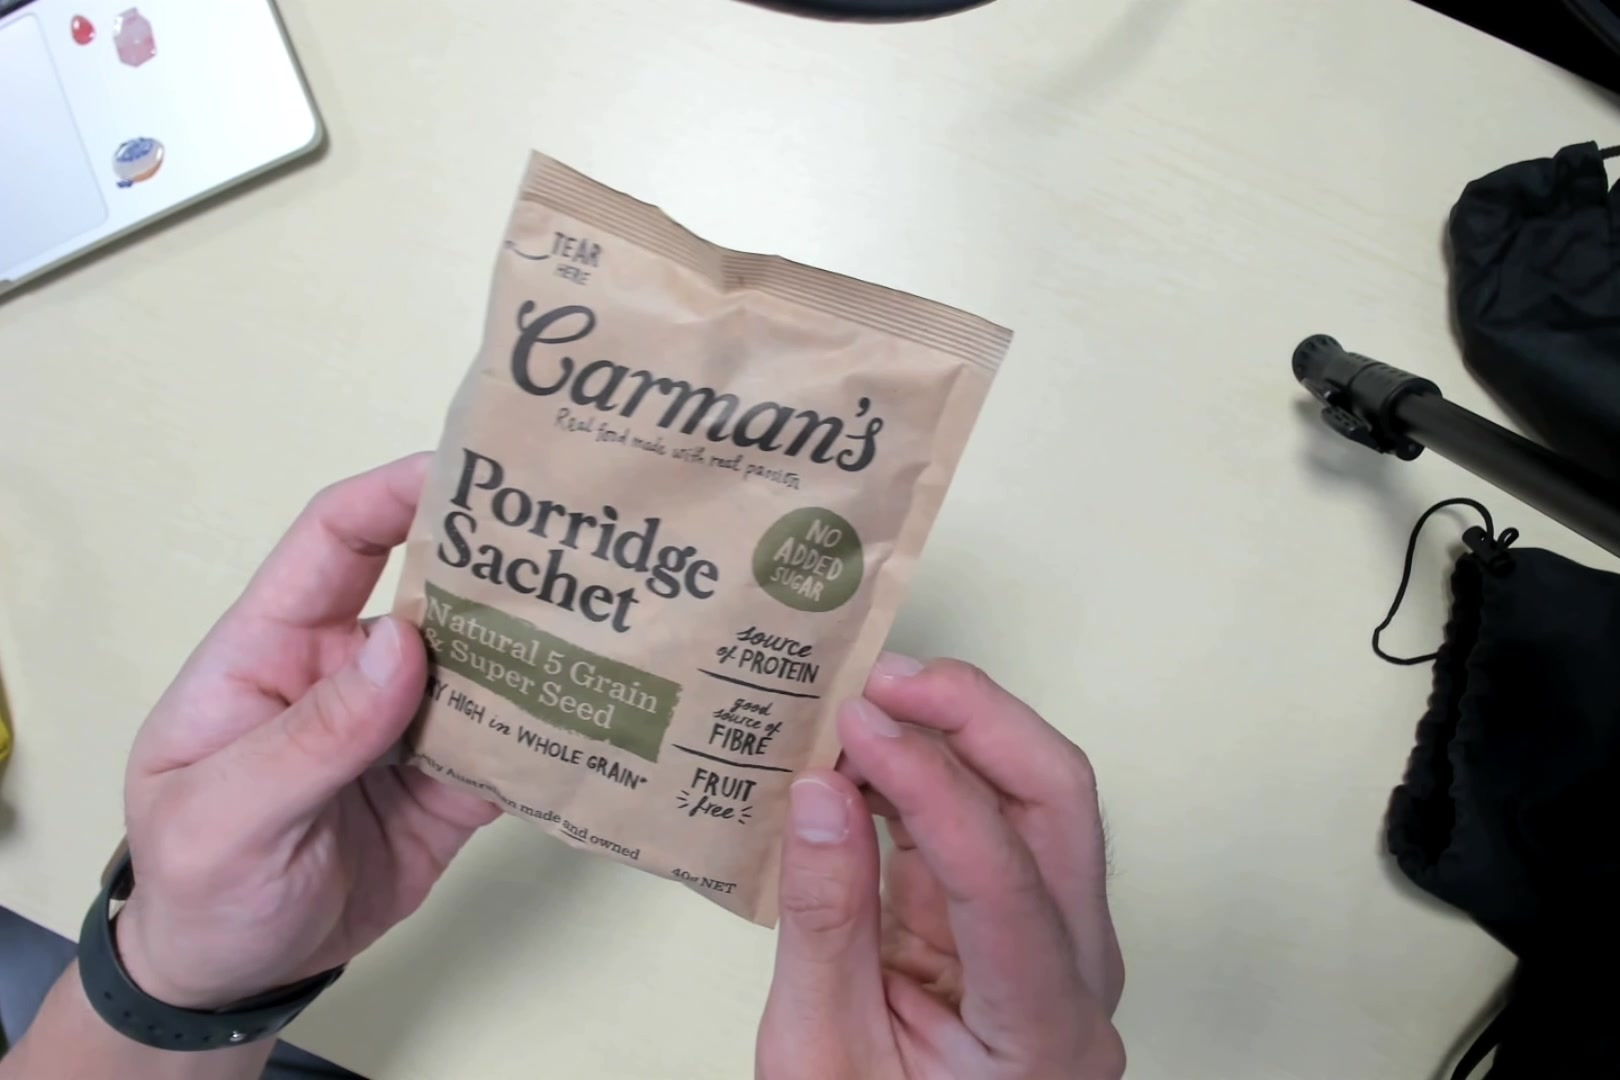InstantMeals_0-99g_NonHalal_NonHealthy: (398, 165, 902, 939)
